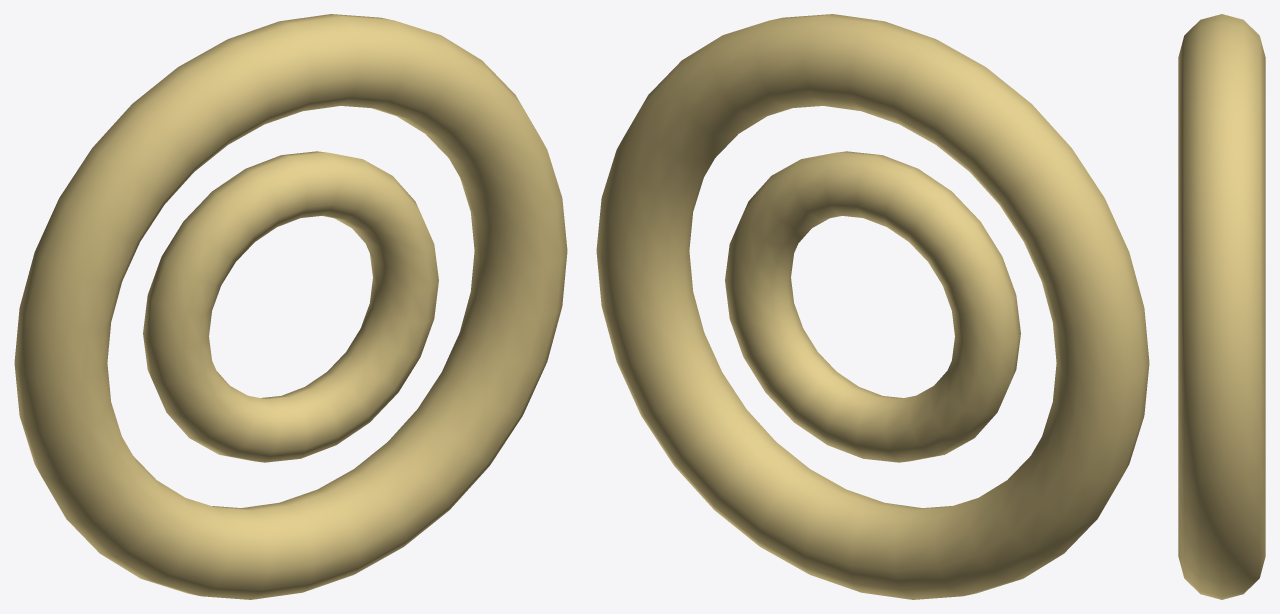
The model's file is ophanim.glb.
3 renders of one model, left to right at view 1: azimuth 30°, elevation 25°; view 2: azimuth 150°, elevation 25°; view 3: azimuth 270°, elevation 25°, orthographic. The views are drawn at different scales.
Parts seen in each view (by area): view 1: Wheel, InnerWheel; view 2: Wheel, InnerWheel; view 3: Wheel.
Part boxes in pixels (x1,y1,x2,y2): Wheel: (14, 14, 567, 599); InnerWheel: (143, 151, 438, 462); Wheel: (596, 14, 1149, 599); InnerWheel: (725, 151, 1020, 462); Wheel: (1178, 14, 1265, 599).
Bounding box in the file's own units: 0.94 × 0.94 × 0.14.
